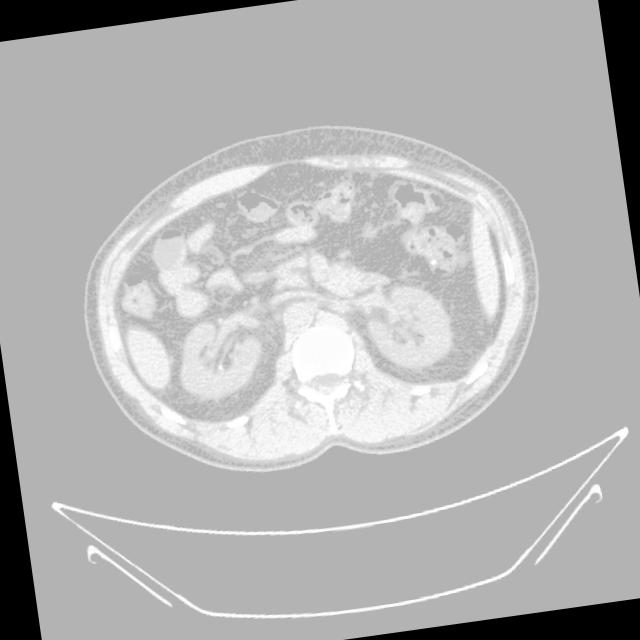STONE: (136, 152, 477, 378)
